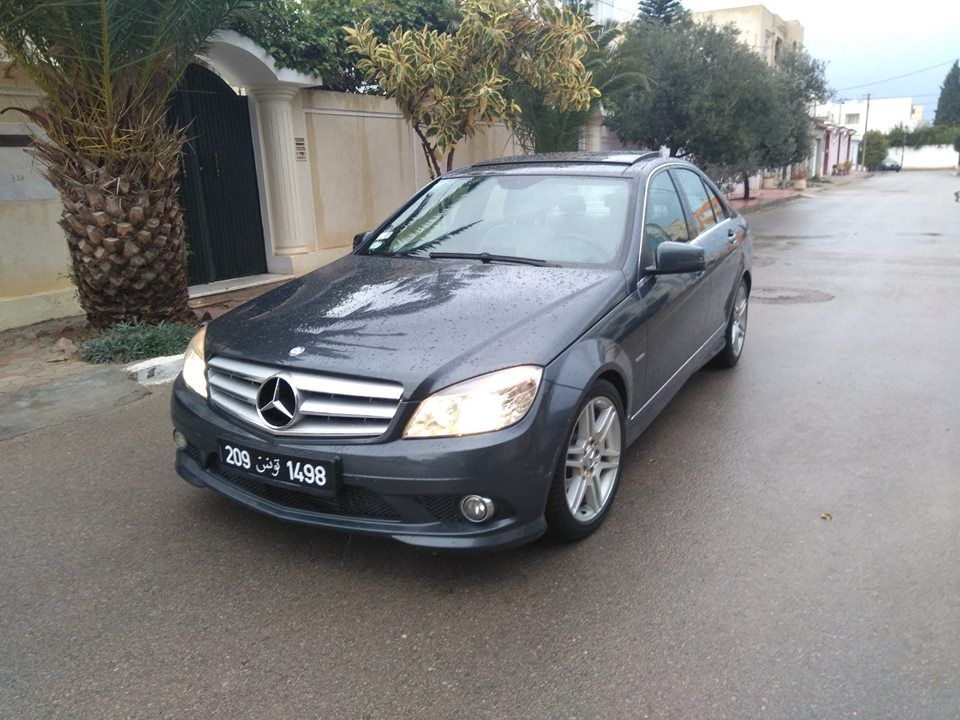LP: (214, 433, 337, 491)
